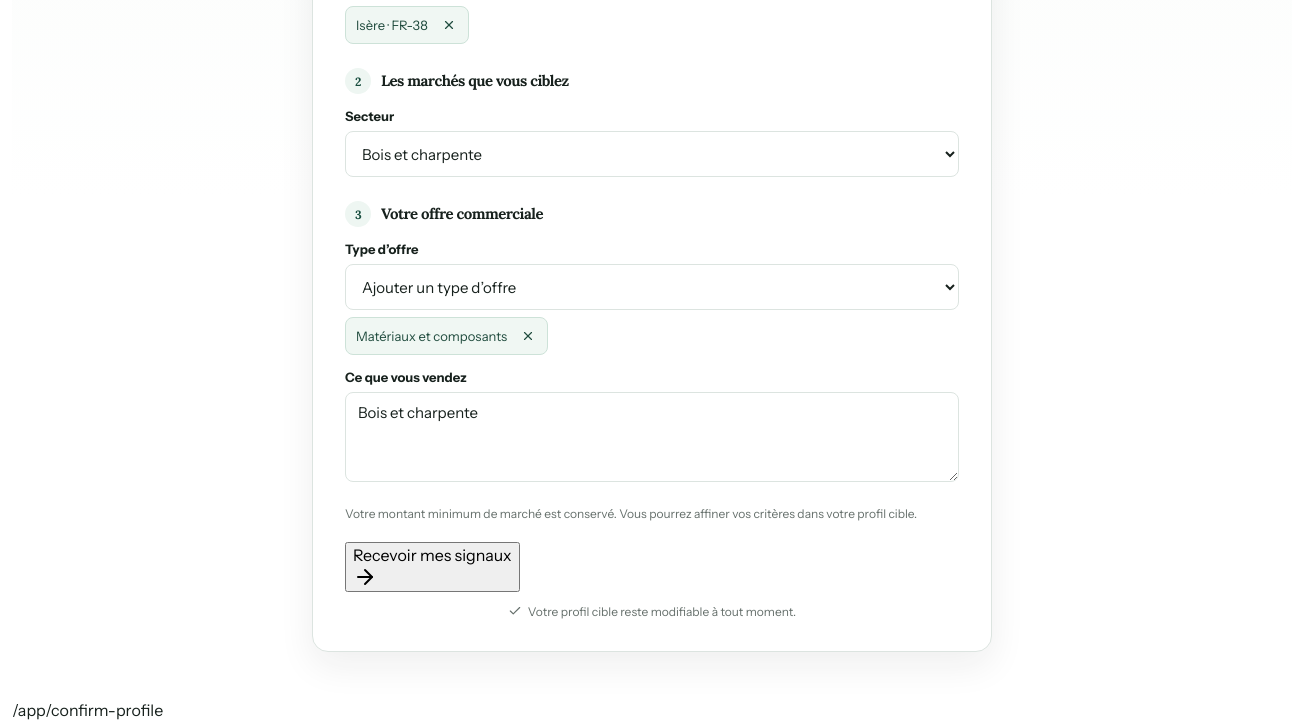
Test: préserve les critères obligatoires et ouvre les signaux après confirmation serveur
(page scrolled)
Click the button "Recevoir mes signaux" at x=432, y=567, box left=345, top=542, right=520, bottom=592
(page scrolled)
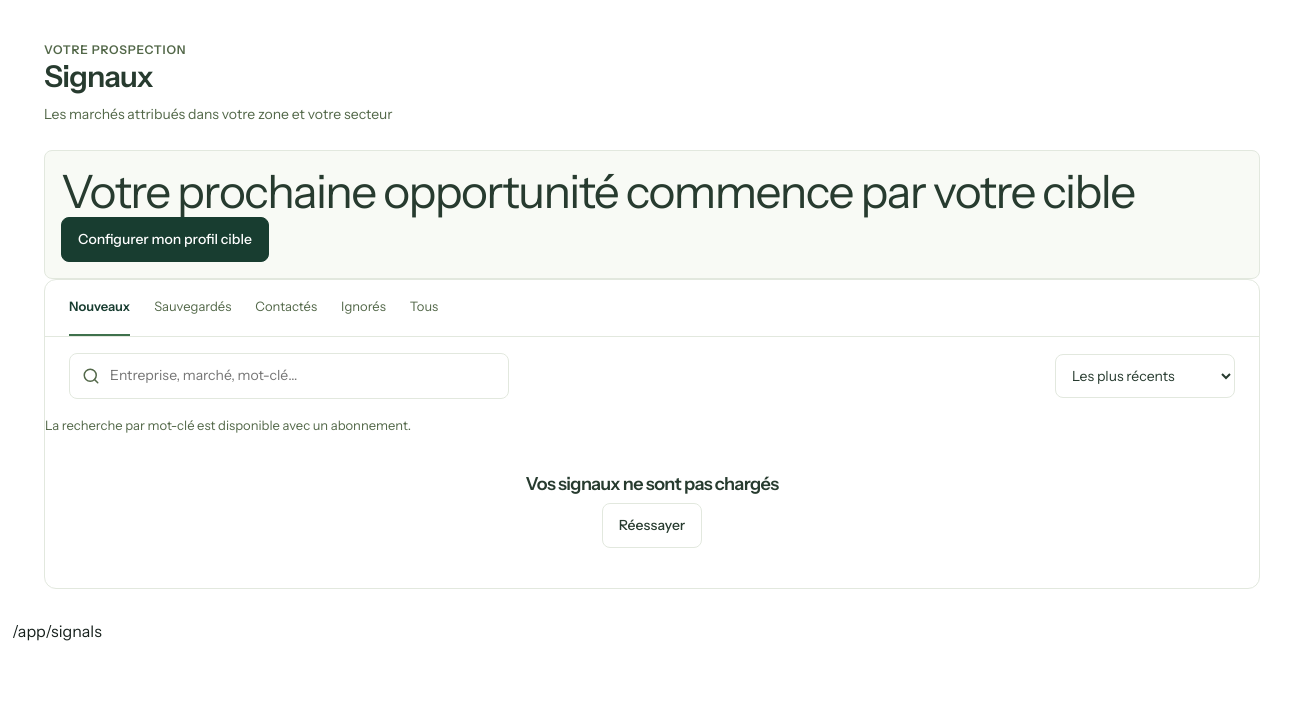
Now the text with test id "location" reads "/app/signals", box left=12, top=620, right=102, bottom=640
